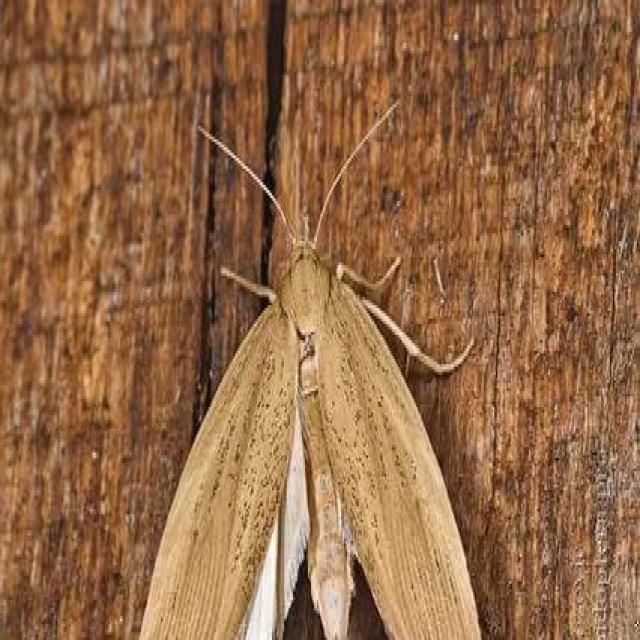yellow-stem-borer: (100, 100, 522, 640)
